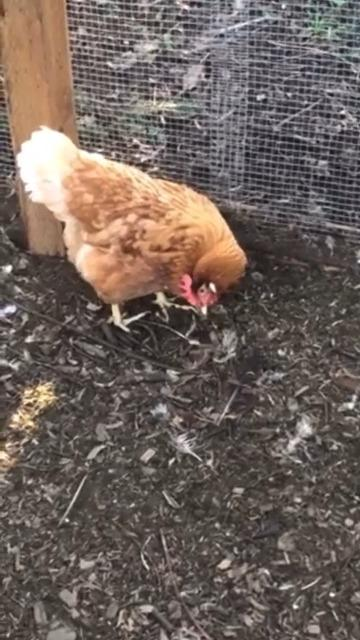AbNormal: (29, 137, 250, 332)
